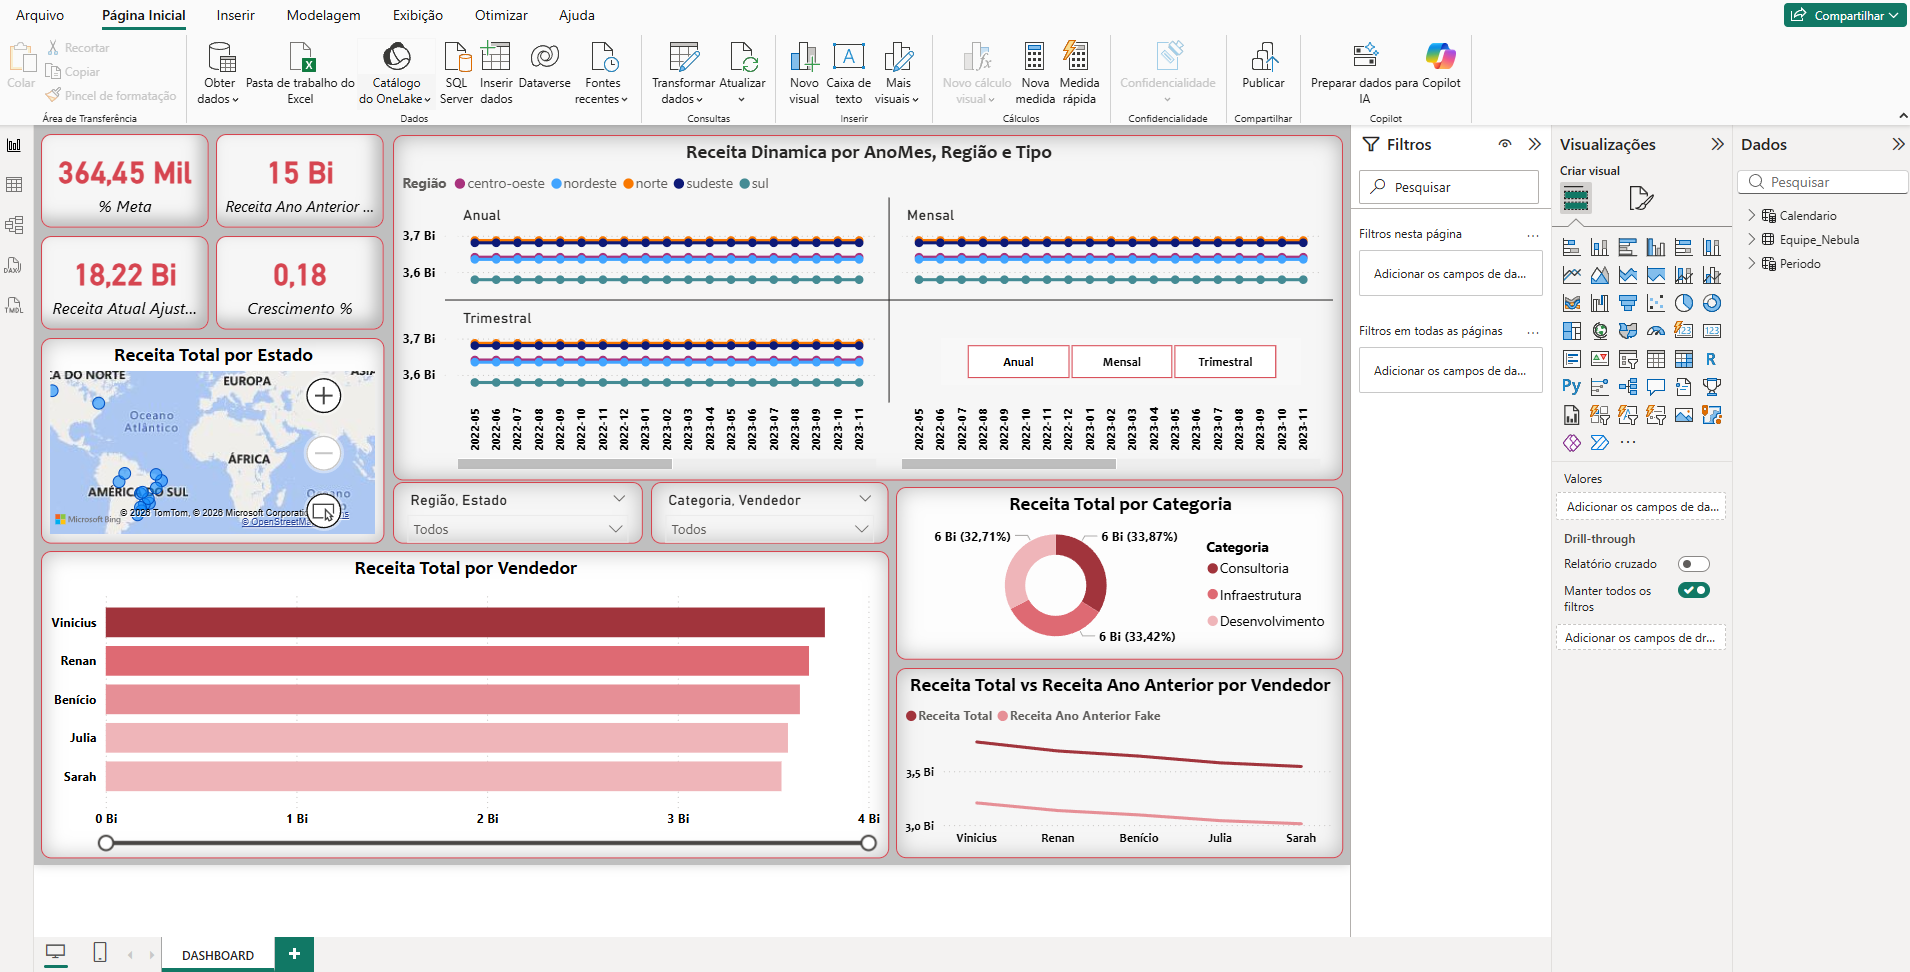

The page's visual inventory and layout, read from the dashboard file:
{"tool":"powerbi","page":{"name":"Página 1","canvas":[1280,720],"ordinal":0},"visuals":[{"type":"card","fields":{"Values":["Calendario.Receita Total"]},"box":[6.8,108,163.4,91.4],"z":0},{"type":"card","fields":{"Values":["Calendario.Receita Ano Anterior"]},"box":[177,8.8,163.4,91.4],"z":1},{"type":"card","fields":{"Values":["Calendario.Crescimento %"]},"box":[177,108,163.4,91.4],"z":2},{"type":"card","fields":{"Values":["Calendario.% Meta"]},"box":[6.8,8.8,163.4,91.4],"z":3},{"type":"lineChart","fields":{"Category":["Calendario.AnoMes"],"Y":["Calendario.Receita Dinamica"],"Series":["Equipe_Nebula.Região"],"Rows":["Periodo.Tipo"]},"box":[349.2,9.7,924,335.6],"z":4},{"type":"barChart","fields":{"Category":["Equipe_Nebula.Vendedor"],"Y":["Calendario.Receita Total"]},"box":[6.8,414.3,824.8,298.6],"z":5},{"type":"donutChart","fields":{"Category":["Equipe_Nebula.Categoria"],"Y":["Calendario.Receita Total"]},"box":[838.4,352.1,434.8,168.3],"z":6},{"type":"map","fields":{"Category":["Equipe_Nebula.Estado"],"Size":["Calendario.Receita Total"]},"box":[6.8,207.2,333.6,200.4],"z":7},{"type":"slicer","fields":{"Values":["Periodo.Tipo"]},"box":[882.2,207.2,350,46],"z":8},{"type":"slicer","fields":{"Values":["Equipe_Nebula.Região","Equipe_Nebula.Estado"]},"box":[349.2,347.2,243.2,60.3],"z":9},{"type":"slicer","fields":{"Values":["Equipe_Nebula.Categoria","Equipe_Nebula.Vendedor"]},"box":[600.1,347.2,231.5,60.3],"z":10},{"type":"lineChart","title":"Receita Total vs Receita Ano Anterior por Vendedor","fields":{"Category":["Equipe_Nebula.Vendedor"],"Y":["Calendario.Receita Total","Calendario.Receita Ano Anterior Fake"]},"box":[838.4,528.1,434.8,184.8],"z":11}]}

Visuals, with their boxes on the page's 1280x720 design canvas (x1, y1, x2, y2). These are canvas units, not pixel positions in the 1910x972 screenshot, which may show the page scaled, cropped or inside an application window:
card - Calendario.Receita Total: (x1=7, y1=108, x2=170, y2=199)
card - Calendario.Receita Ano Anterior: (x1=177, y1=9, x2=340, y2=100)
card - Calendario.Crescimento %: (x1=177, y1=108, x2=340, y2=199)
card - Calendario.% Meta: (x1=7, y1=9, x2=170, y2=100)
lineChart - Calendario.AnoMes x Calendario.Receita Dinamica: (x1=349, y1=10, x2=1273, y2=345)
barChart - Equipe_Nebula.Vendedor x Calendario.Receita Total: (x1=7, y1=414, x2=832, y2=713)
donutChart - Equipe_Nebula.Categoria x Calendario.Receita Total: (x1=838, y1=352, x2=1273, y2=520)
map - Equipe_Nebula.Estado x Calendario.Receita Total: (x1=7, y1=207, x2=340, y2=408)
slicer - Periodo.Tipo: (x1=882, y1=207, x2=1232, y2=253)
slicer - Equipe_Nebula.Região x Equipe_Nebula.Estado: (x1=349, y1=347, x2=592, y2=408)
slicer - Equipe_Nebula.Categoria x Equipe_Nebula.Vendedor: (x1=600, y1=347, x2=832, y2=408)
"Receita Total vs Receita Ano Anterior por Vendedor" lineChart: (x1=838, y1=528, x2=1273, y2=713)
